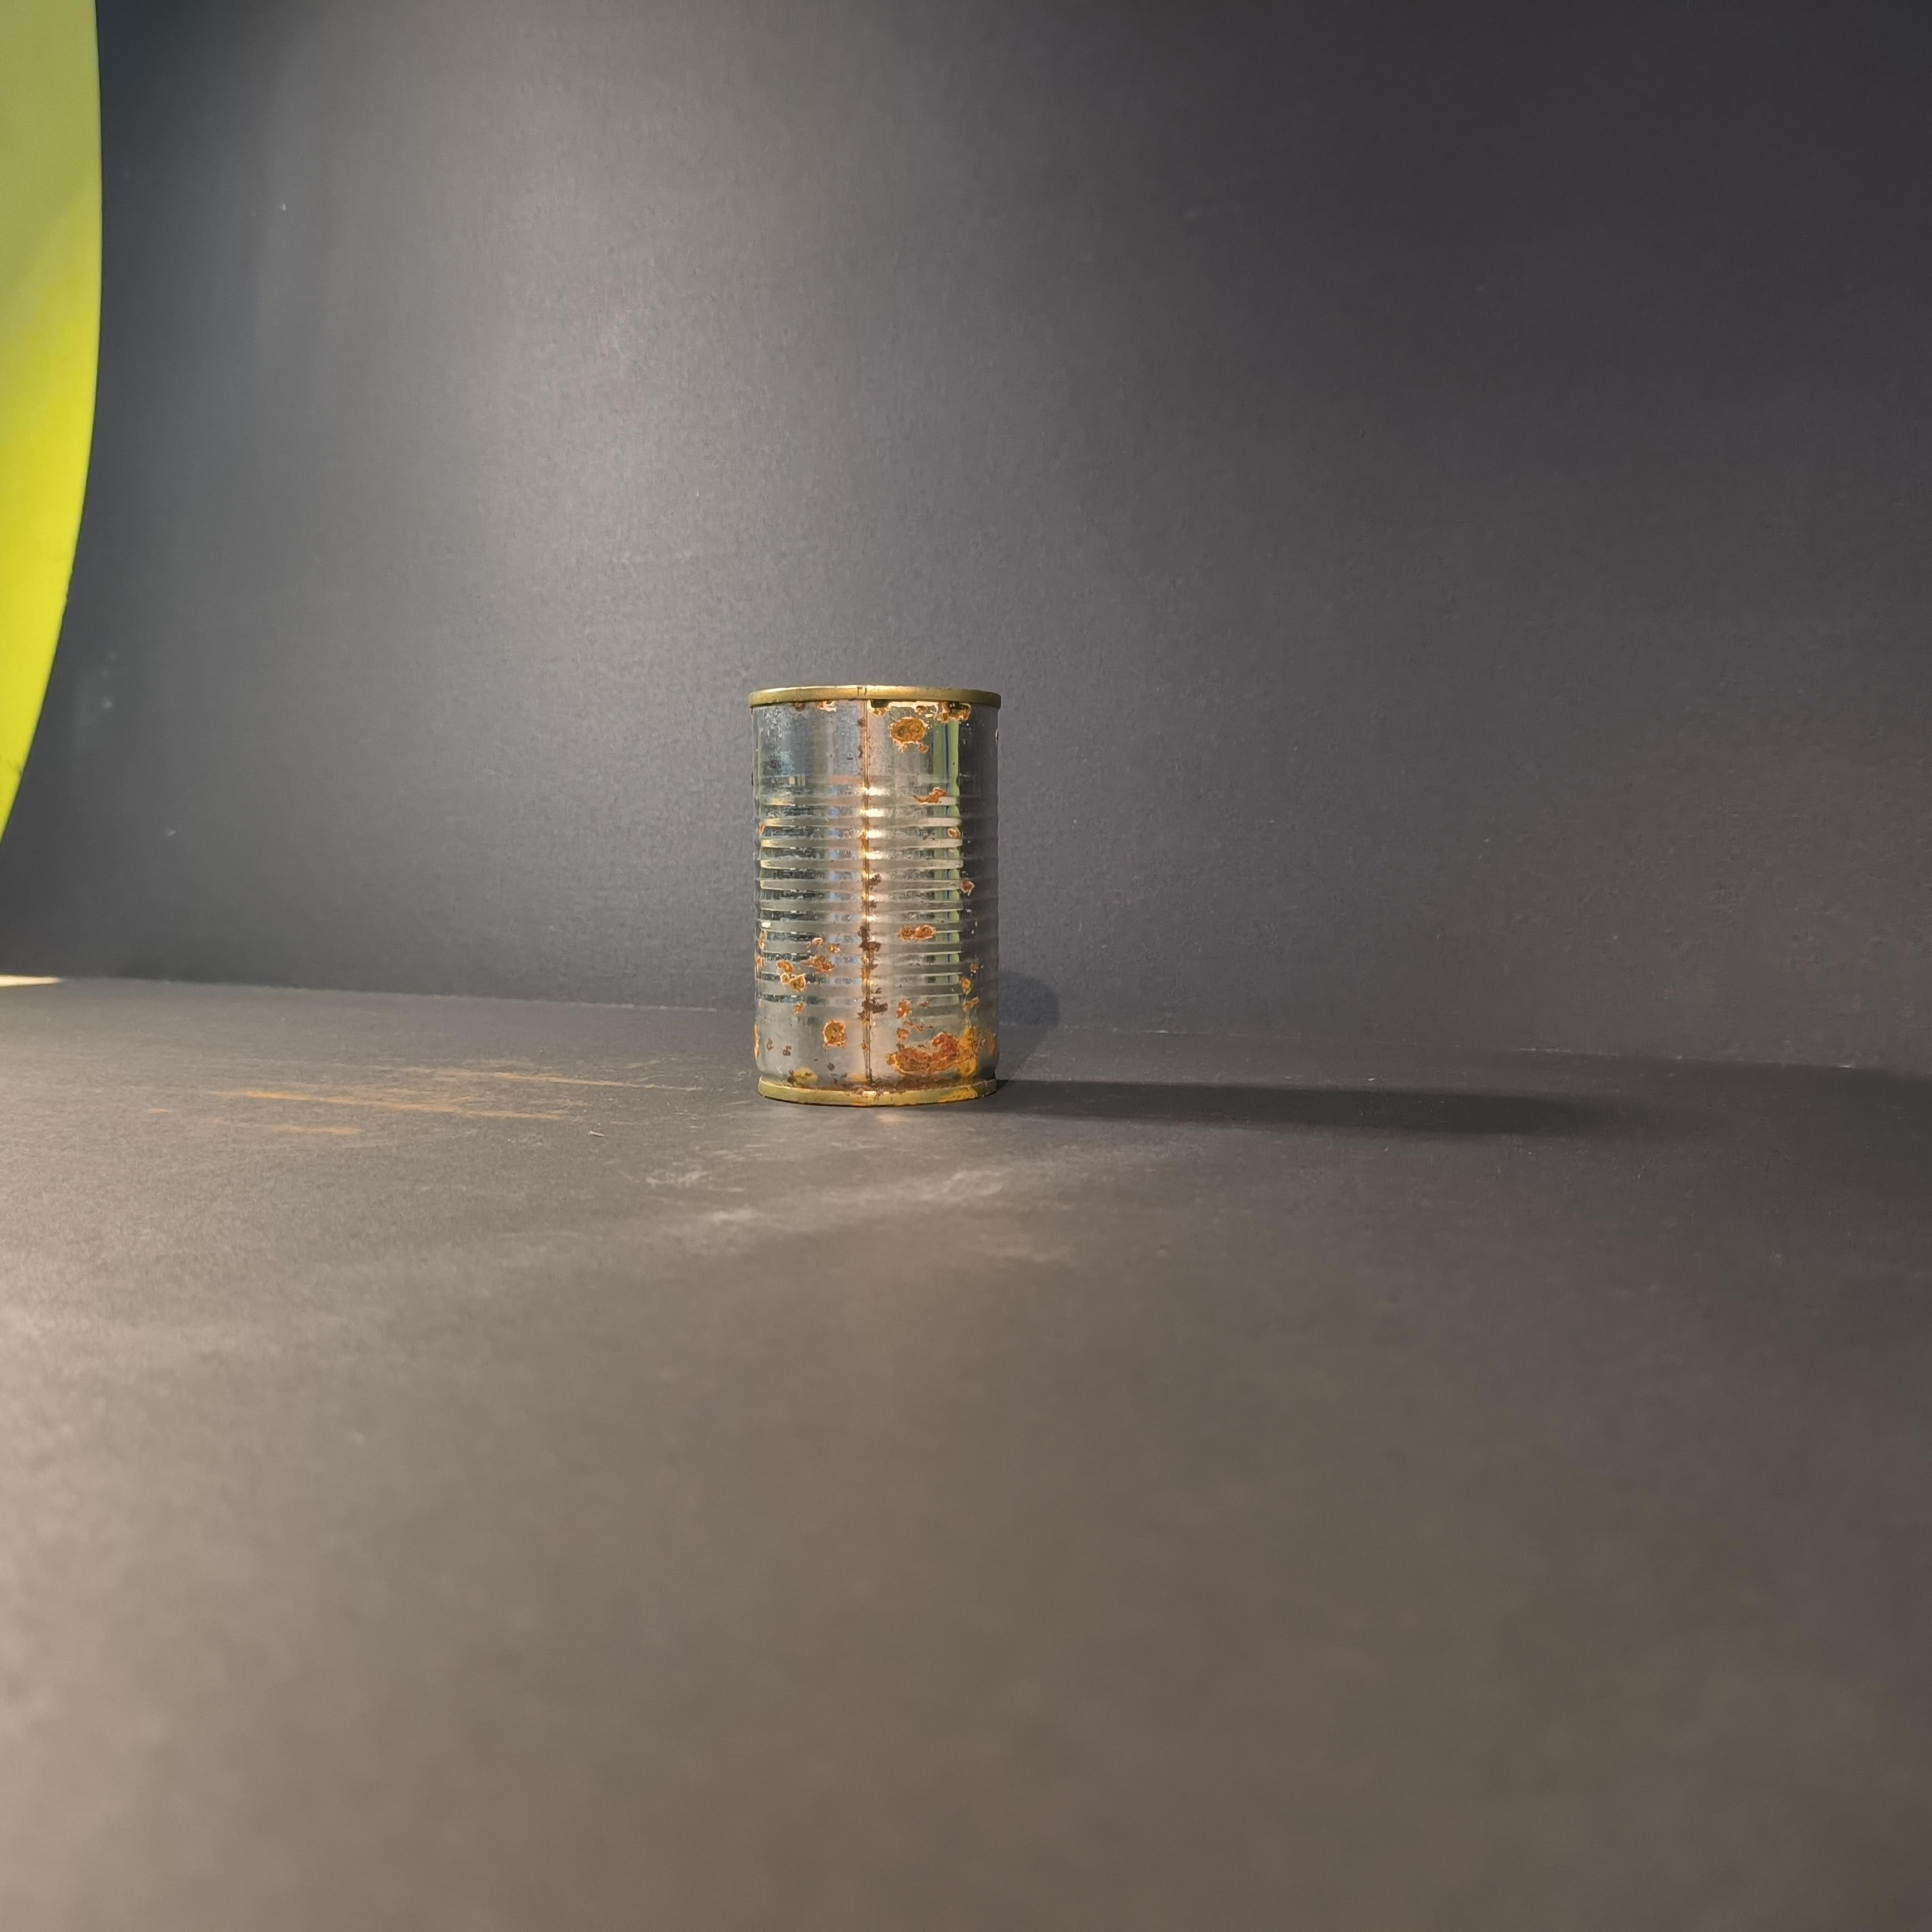Rusted: (734, 655, 1016, 1116)
